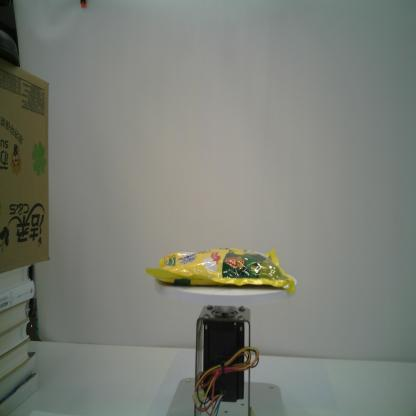Seasoner: (146, 245, 296, 296)
